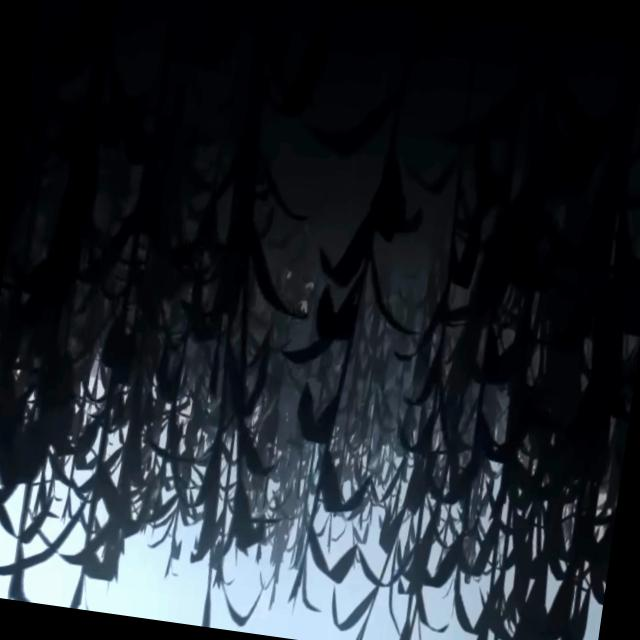boy: (281, 261, 318, 320)
